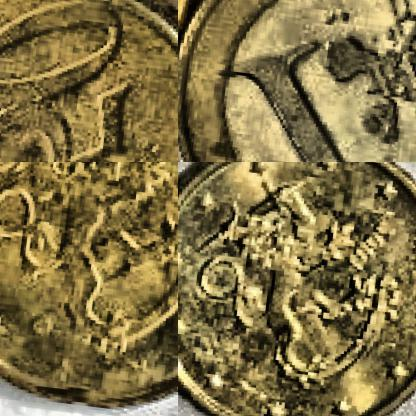coin: (178, 162, 415, 415), (0, 162, 177, 415), (178, 0, 415, 161), (0, 0, 177, 161)
